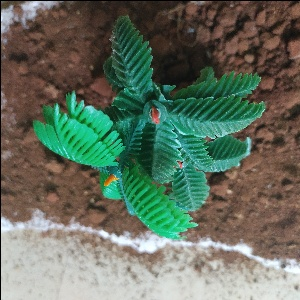plant: (32, 13, 265, 241)
